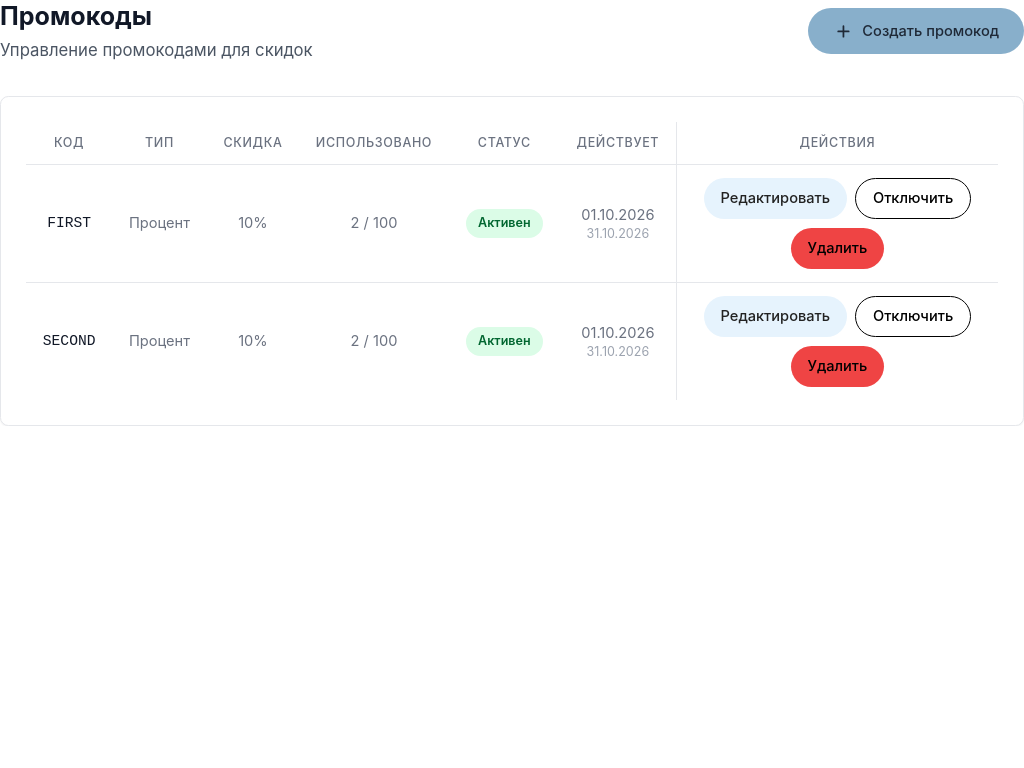
Test: Promo code inline editing › opens below the selected desktop item, preserves drafts on repeat clicks, and moves on selection
Expected: the heading "Промокоды" is shown, [0,1,152,31]
Click the button "Редактировать" in the row of "FIRST": {"x": 775, "y": 198} [704,178,847,219]
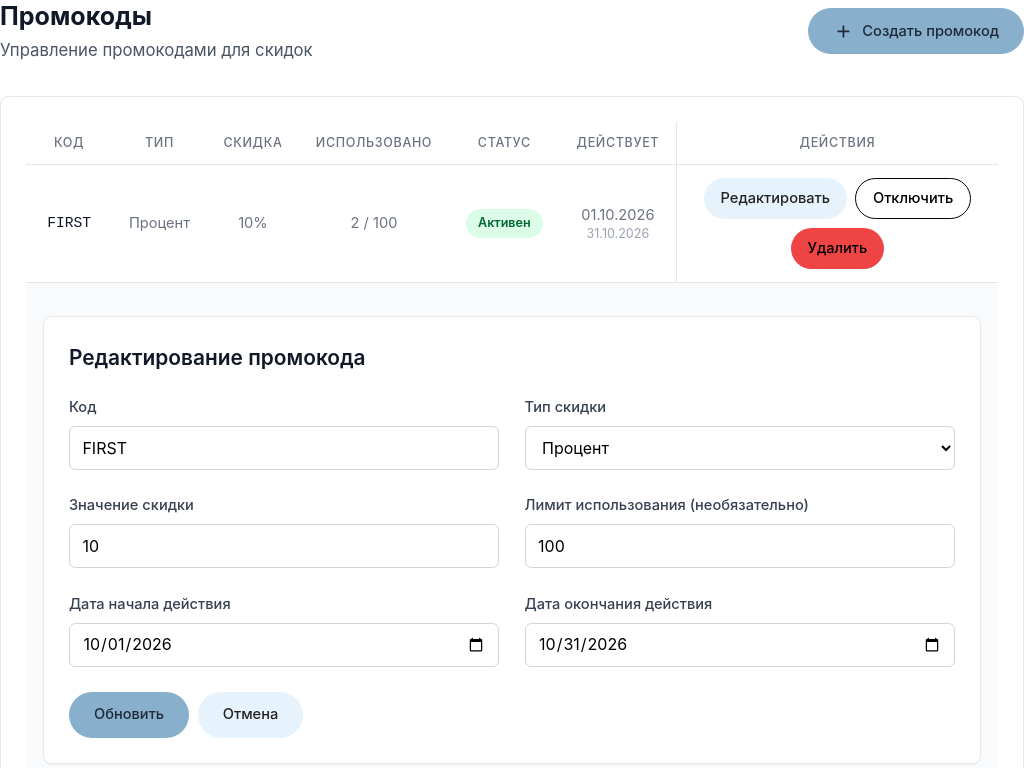
Expected: the field labelled "Код" holds "FIRST"
Replace the text in the field labelled "Код" with "DRAFT": {"x": 284, "y": 448} [69,426,500,470]
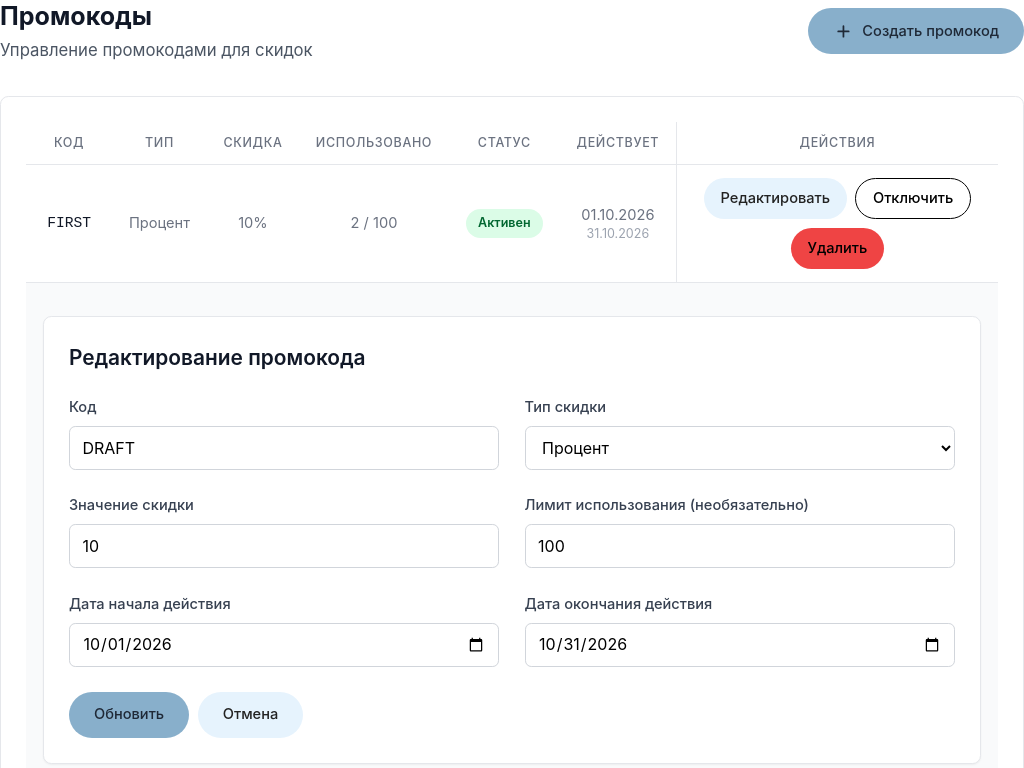
Click the button "Редактировать": {"x": 775, "y": 198} [704,178,847,219]
(page scrolled)
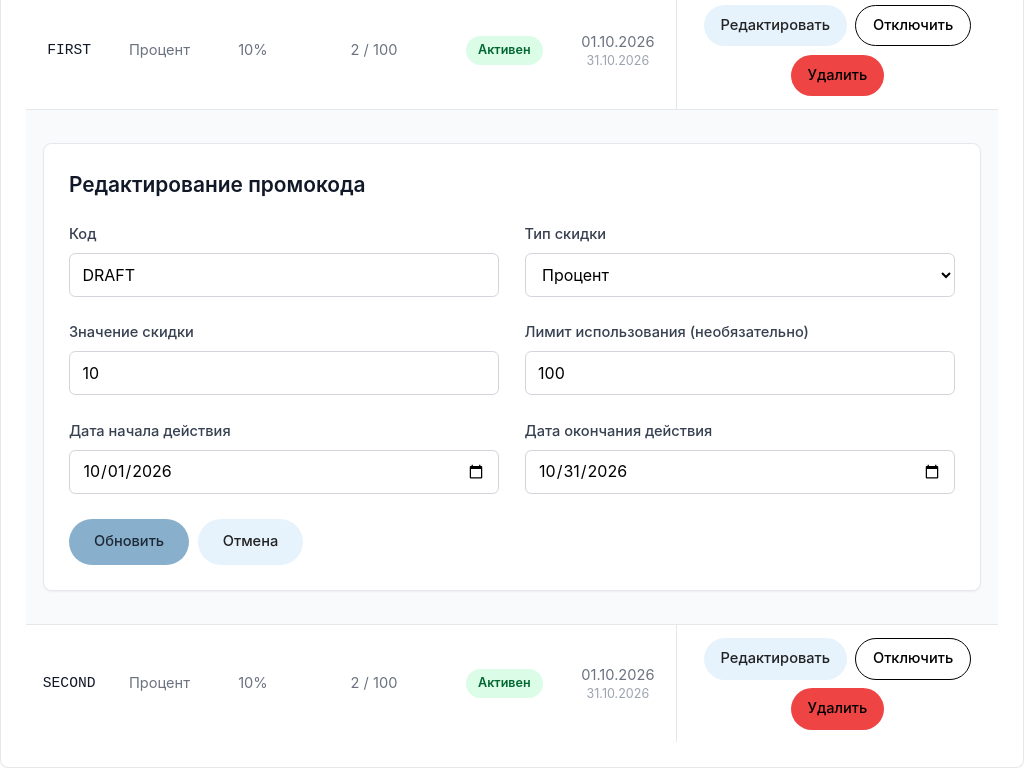
Click the button "Редактировать" in the row of "SECOND": {"x": 775, "y": 659} [704,638,847,680]
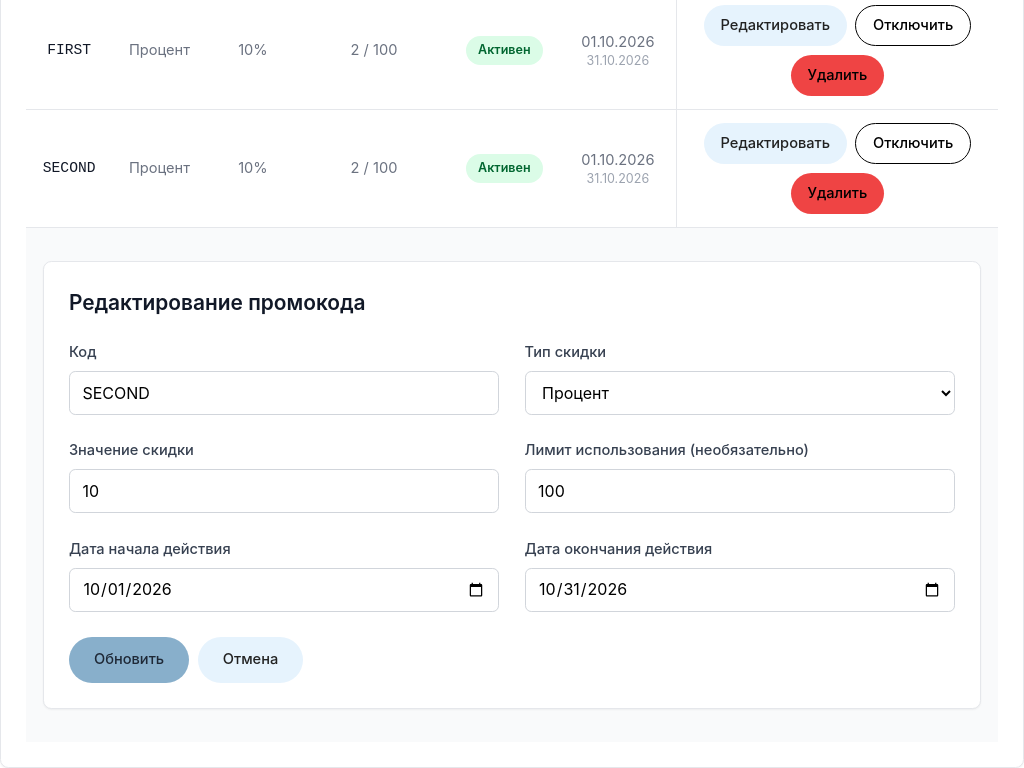
Expected: the field labelled "Код" holds "SECOND", [69,371,500,415]
